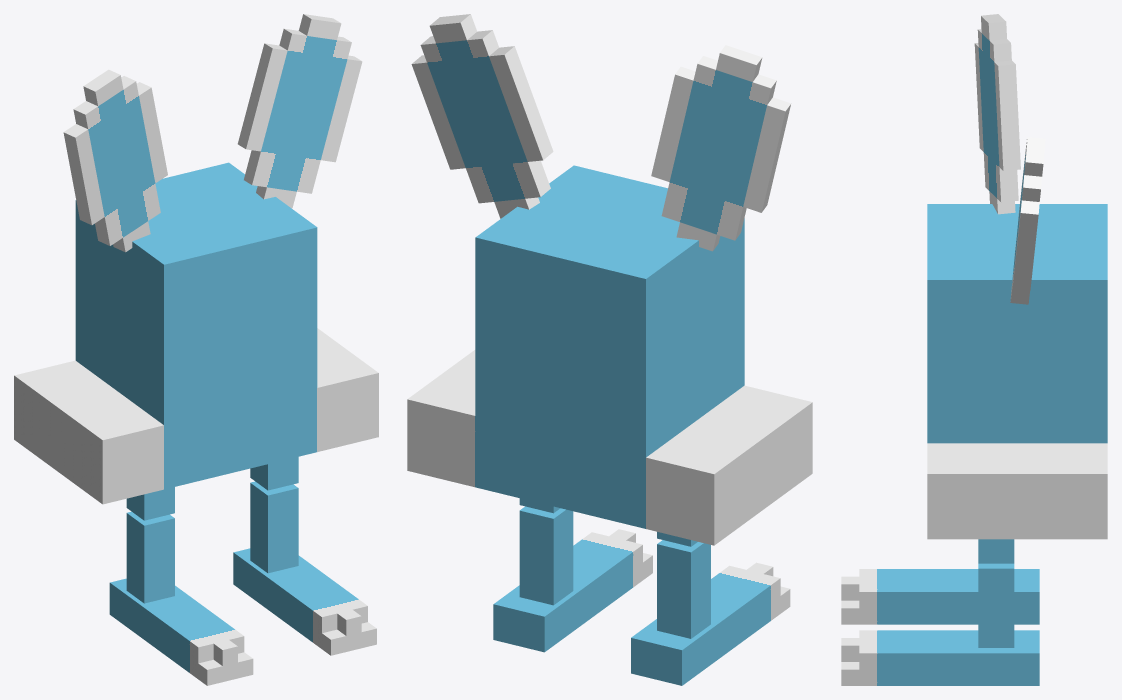
File: Rabbit.gltf
The picture shows the model from 3 angles, left to right: view 1: azimuth 30°, elevation 25°; view 2: azimuth 150°, elevation 25°; view 3: azimuth 270°, elevation 25°; orthographic projection. The views are drawn at different scales.
Visible parts, largest first — view 1: Body-Local, FootLeft-Local (×2), RabbitEarRight-Local, RabbitEarLeft-Local, LegBottom-Local (×2), LegTop-Local (×2); view 2: Body-Local, RabbitEarLeft-Local, FootLeft-Local (×2), RabbitEarRight-Local, LegBottom-Local (×2); view 3: Body-Local, FootLeft-Local (×2), RabbitEarLeft-Local, RabbitEarRight-Local, LegBottom-Local, LegTop-Local.
Part boxes in pixels (left/top/right/bottom): Body-Local: left=14, top=162, right=378, bottom=504; FootLeft-Local (×2): left=109, top=548, right=376, bottom=685; RabbitEarRight-Local: left=237, top=14, right=362, bottom=208; RabbitEarLeft-Local: left=63, top=69, right=167, bottom=252; LegBottom-Local (×2): left=126, top=481, right=298, bottom=603; LegTop-Local (×2): left=126, top=457, right=298, bottom=520; Body-Local: left=407, top=165, right=812, bottom=545; RabbitEarLeft-Local: left=651, top=45, right=790, bottom=251; FootLeft-Local (×2): left=493, top=529, right=790, bottom=685; RabbitEarRight-Local: left=411, top=14, right=553, bottom=218; LegBottom-Local (×2): left=519, top=506, right=710, bottom=638; Body-Local: left=927, top=204, right=1107, bottom=539; FootLeft-Local (×2): left=841, top=569, right=1039, bottom=685; RabbitEarLeft-Local: left=974, top=14, right=1020, bottom=214; RabbitEarRight-Local: left=1010, top=137, right=1045, bottom=304; LegBottom-Local: left=978, top=563, right=1014, bottom=647; LegTop-Local: left=978, top=539, right=1014, bottom=563.
Bounding box in the file's own units: 12.26 × 20.98 × 8.86.
Materials: 4 (4 with a texture image).
